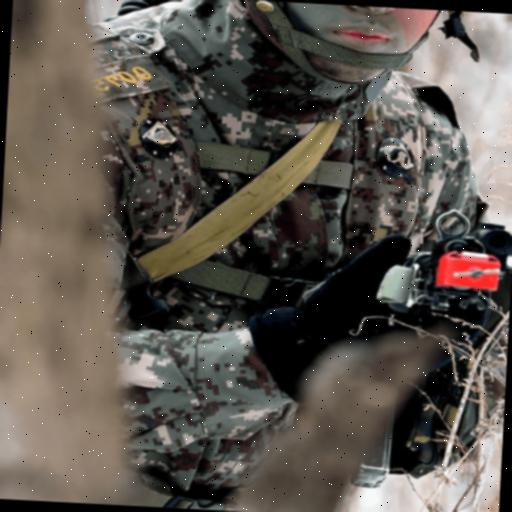korea army: (61, 0, 512, 512)
